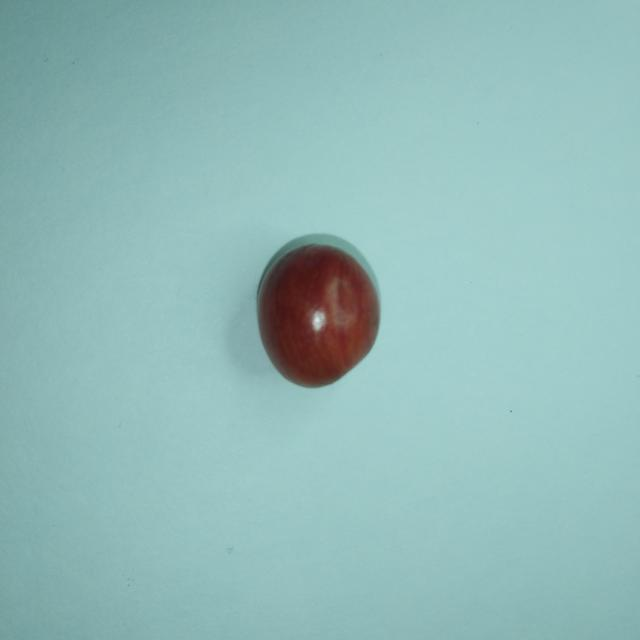Sano: (257, 234, 379, 387)
